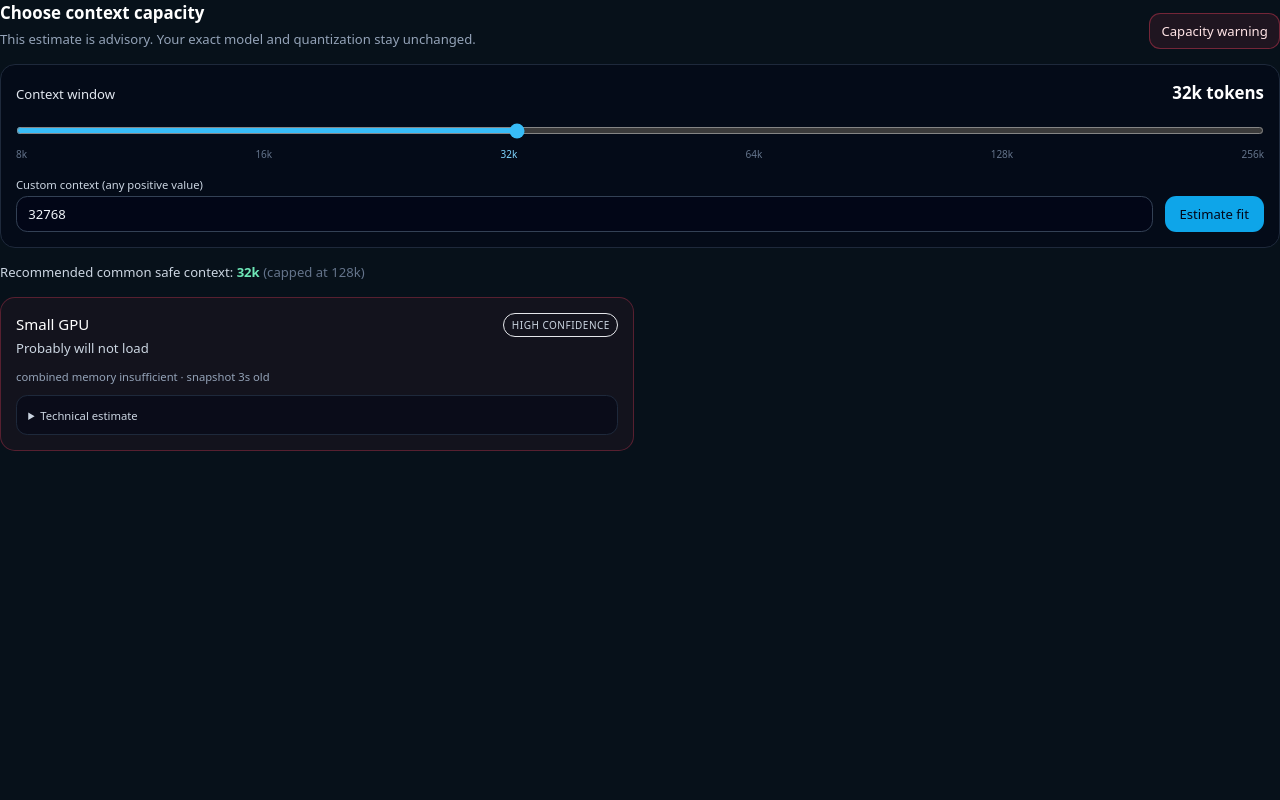
it: CapacityPlanner › exposes a logarithmic preset slider and accepts a custom red-zone context
Replace the text in the number field named "Custom context tokens" with "200000": (585,214) [16,196,1153,232]
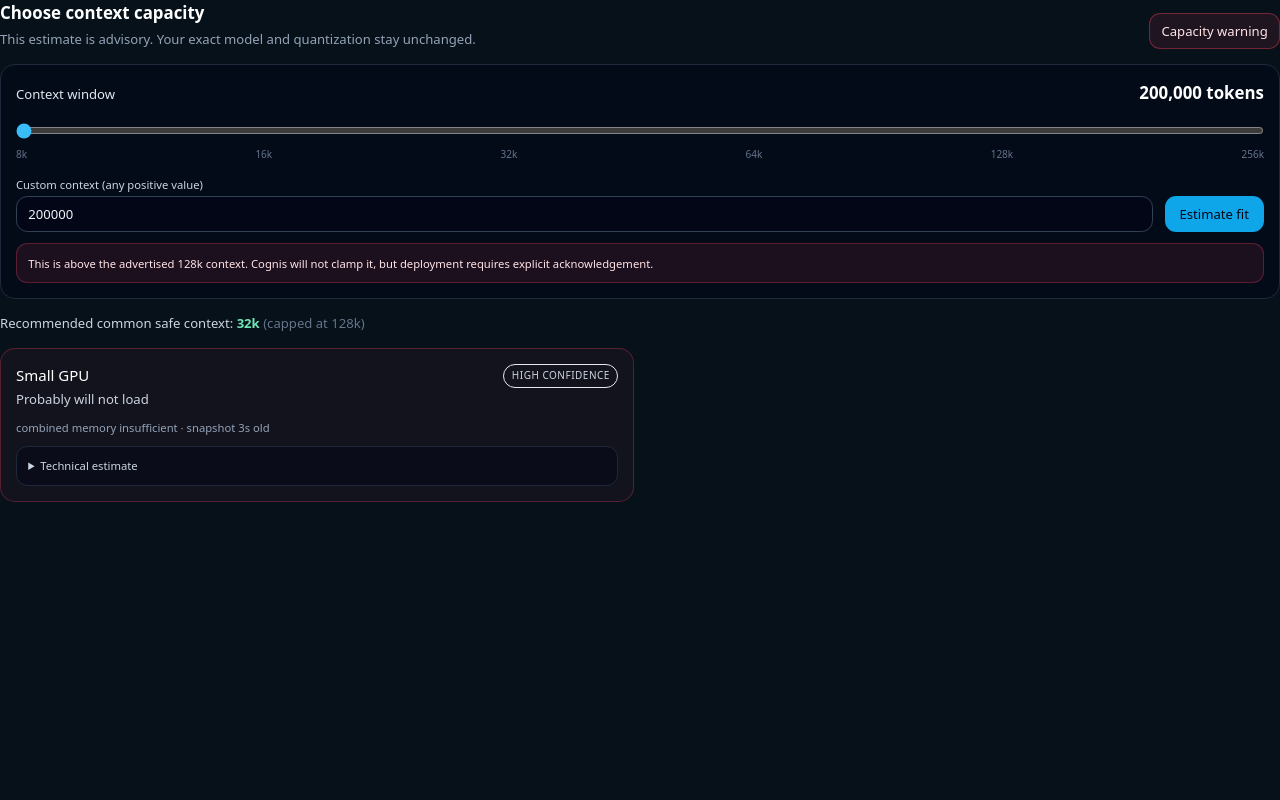
Expected: the message reads "Capacity warning", [1162,22,1268,40]
Expected: the text "above the advertised 128k context" is shown, [28,256,653,270]
